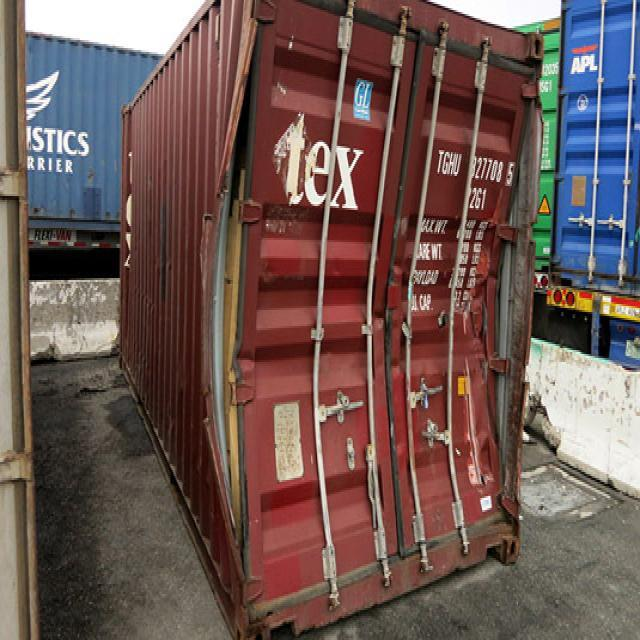hole: (274, 10, 535, 574), (206, 13, 271, 615)
rust: (150, 199, 182, 299)
